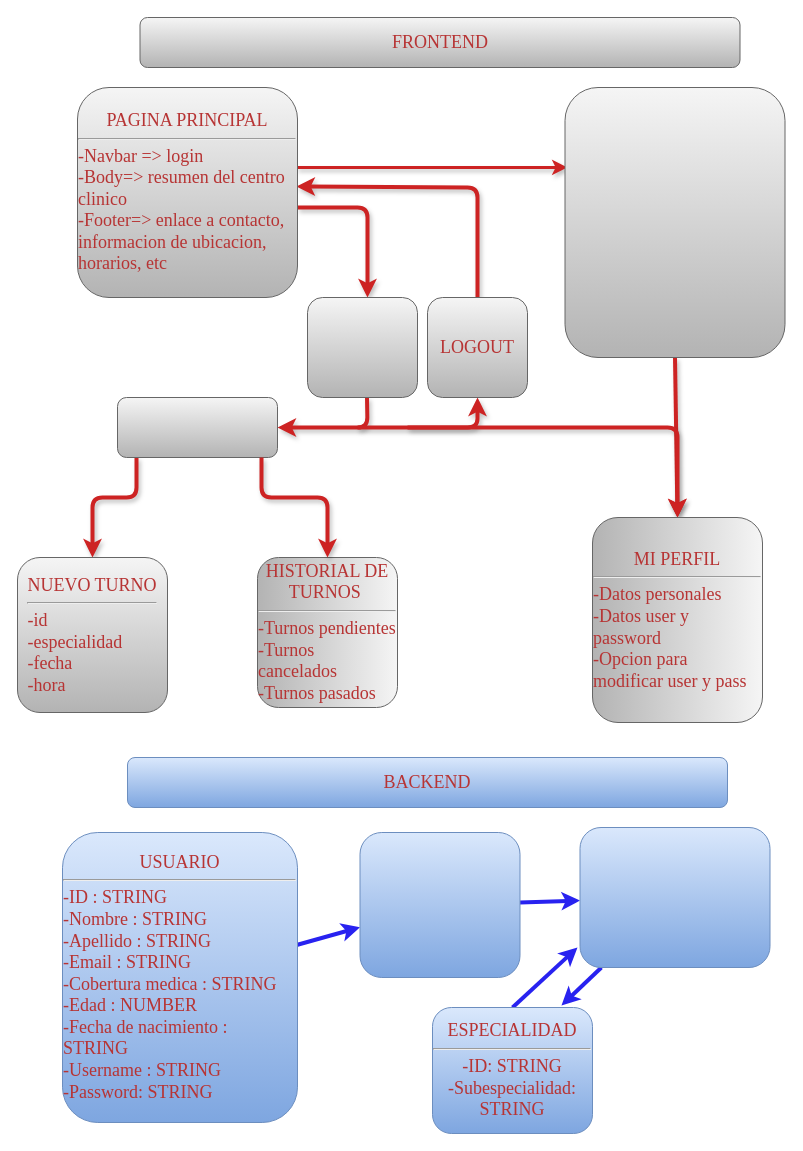
Image size: 803x1151. Some labels were removed from this diagram. The shapes that lost their labels are listed below. From the top down, each one's centre as x and y in pixels, then its label:
pixel 674 222: REGISTRO -Datos personales: -Name -Email -Edad -Fn User: -Username -Password
pixel 362 347: LOGIN
pixel 197 427: MIS TURNOS
pixel 439 905: CREDENCIAL -ID: STRING -Password: STRING -Foto de perfil : URL
pixel 674 897: TURNOS -ID: STRING -Especialidad: STRING -Dia: NUMBER -Hora: NUMBER
